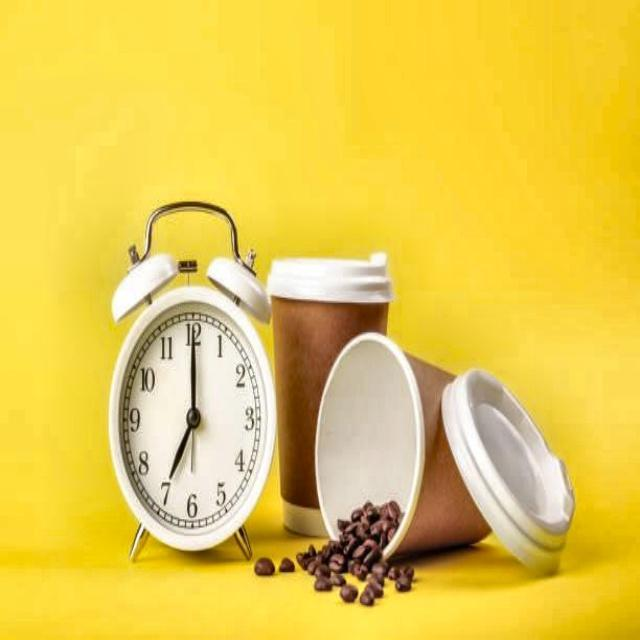paper_cup: (312, 332, 510, 564), (266, 236, 401, 550)
